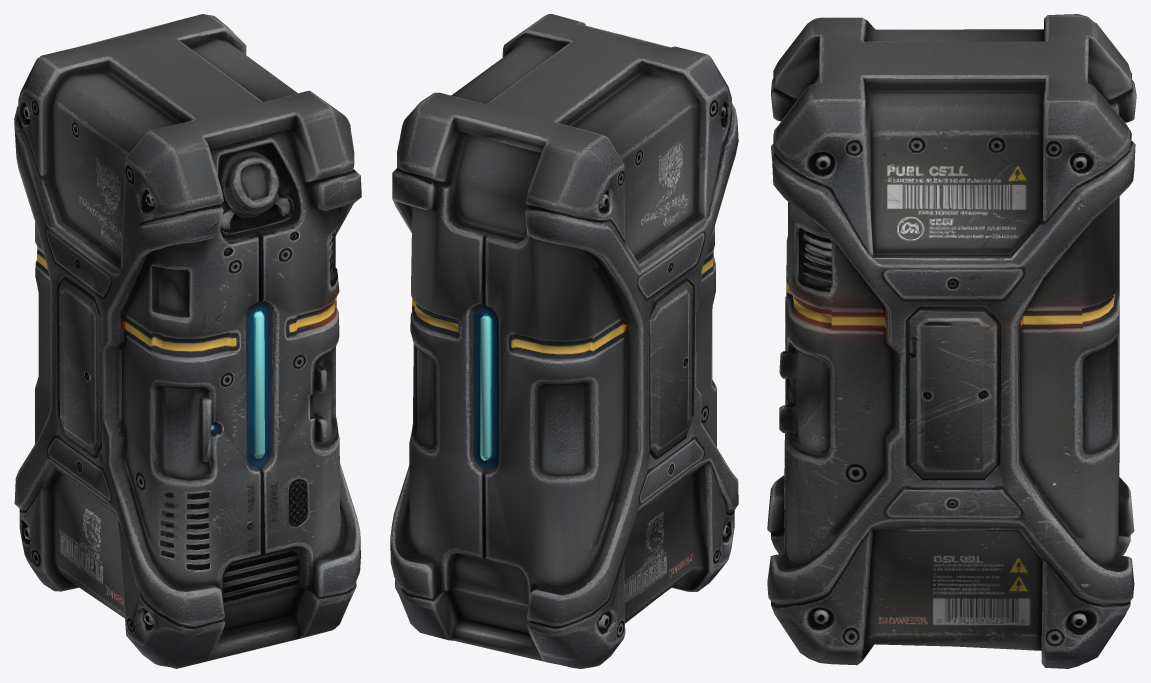
File: selected.glb
3 views of the same model, side by side, from view 1: azimuth 30°, elevation 25°; view 2: azimuth 150°, elevation 25°; view 3: azimuth 270°, elevation 25° (orthographic). The views are drawn at different scales.
Parts seen in each view (by area): view 1: tripo_node_63d1dd74-a3d5-437c-a4fa-6c064664663b; view 2: tripo_node_63d1dd74-a3d5-437c-a4fa-6c064664663b; view 3: tripo_node_63d1dd74-a3d5-437c-a4fa-6c064664663b.
Part boxes in pixels (x1=…): tripo_node_63d1dd74-a3d5-437c-a4fa-6c064664663b: x1=14, y1=14, x2=361, y2=668; tripo_node_63d1dd74-a3d5-437c-a4fa-6c064664663b: x1=390, y1=14, x2=738, y2=668; tripo_node_63d1dd74-a3d5-437c-a4fa-6c064664663b: x1=767, y1=14, x2=1136, y2=668.
Size of the model in its own units: 0.4434 by 0.998 by 0.5918.
Materials: 1 (1 with a texture image).
